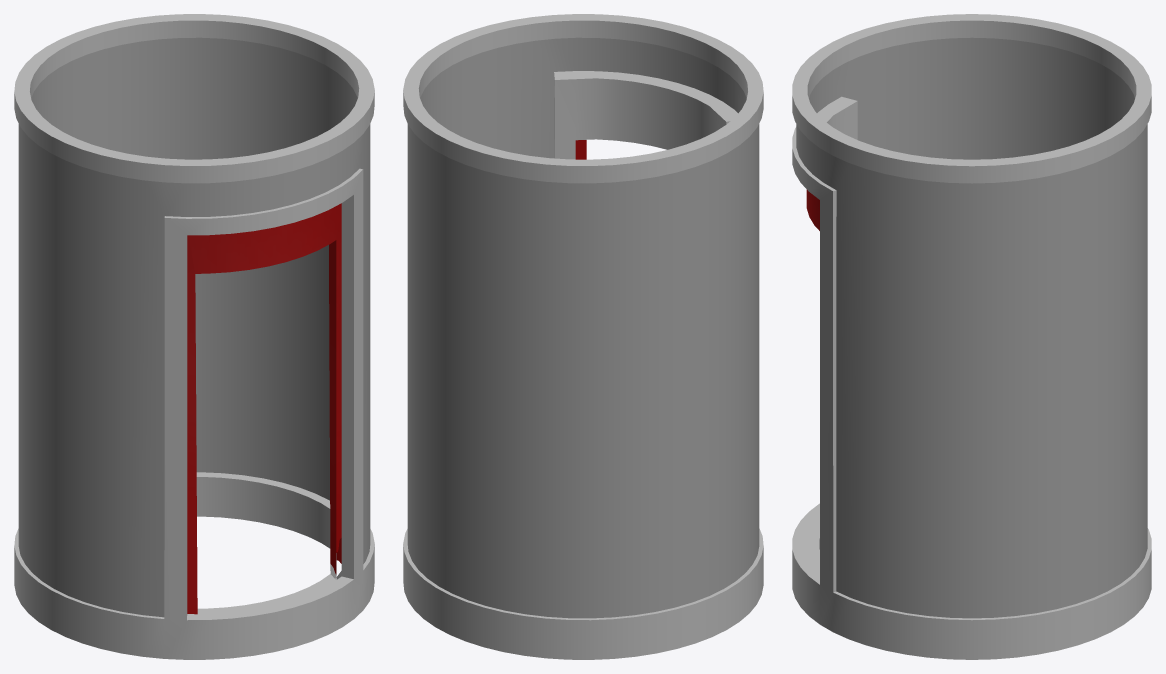
The model's file is Elevator Cylidrical 1.fbx.
3 renders of one model, left to right at view 1: azimuth 30°, elevation 25°; view 2: azimuth 150°, elevation 25°; view 3: azimuth 270°, elevation 25°, orthographic.
Visible parts, largest first — view 1: polySurface337; view 2: polySurface337; view 3: polySurface337.
Boxes of the visible parts, box(x1,y1,x2,y2) form: polySurface337: box(14, 14, 374, 659); polySurface337: box(403, 14, 763, 659); polySurface337: box(792, 14, 1151, 659).
Bounding box in the file's own units: 200 × 302 × 199.
3 materials, 1 textured.
